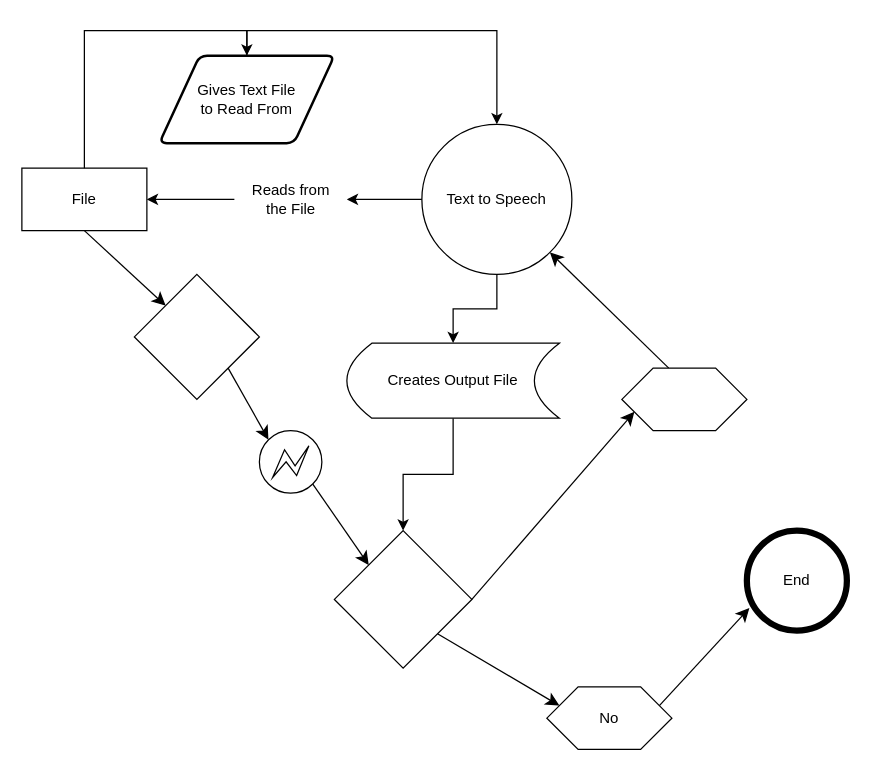
Image size: 871x771. Some labels were removed from this diagram. The centre of each missing label's shape, as x and y in pixels:
"if file doesn't exist" belongs at [196,336].
"Use Program Again?" belongs at [402,598].
"Yes" belongs at [684,399].
